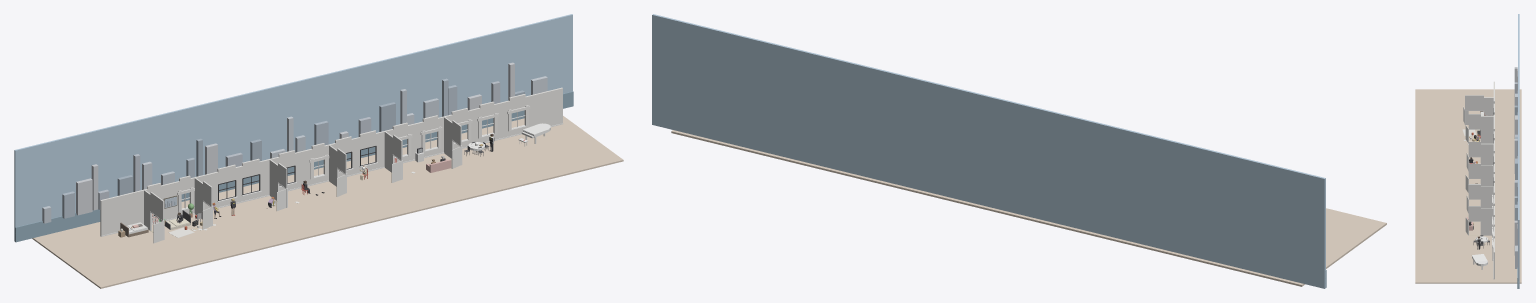
3 renders of one model, left to right at view 1: azimuth 30°, elevation 25°; view 2: azimuth 150°, elevation 25°; view 3: azimuth 270°, elevation 25°, orthographic. The views are drawn at different scales.
Visible parts, largest first — view 1: backdrop_sky, floor, backdrop_water, backwall_-20.0, backwall_end, backwall_2.2, city_2, backwall_-9.8, backwall_25.1, city_16, backwall_-13.2, backwall_-1.8 (+2 smaller); view 2: backdrop_sky, floor; view 3: floor, backdrop_sky, part1_rear, part5_rear, part2_rear, part3_rear, part4_rear, part0_head, part2_head, part3_head, part4_head, part1_head (+7 smaller).
Part boxes in pixels (<box>): backdrop_sky: <box>14,14,572,241</box>; floor: <box>32,116,623,288</box>; backdrop_water: <box>15,91,573,242</box>; backwall_-20.0: <box>100,189,147,236</box>; backwall_end: <box>524,87,562,128</box>; backwall_2.2: <box>294,148,312,188</box>; city_2: <box>76,178,92,215</box>; backwall_-9.8: <box>189,171,218,213</box>; backwall_25.1: <box>493,100,509,139</box>; city_16: <box>379,102,395,131</box>; backwall_-13.2: <box>161,181,179,219</box>; backwall_-1.8: <box>259,157,279,196</box>; backdrop_sky: <box>652,14,1325,288</box>; floor: <box>671,130,1386,286</box>; floor: <box>1415,89,1521,283</box>; backdrop_sky: <box>1518,14,1519,288</box>; part1_rear: <box>1481,116,1493,143</box>; part5_rear: <box>1481,208,1493,235</box>; part2_rear: <box>1481,143,1493,165</box>; part3_rear: <box>1481,165,1493,186</box>; part4_rear: <box>1481,186,1493,208</box>; part0_head: <box>1465,95,1483,110</box>; part2_head: <box>1468,141,1480,156</box>; part3_head: <box>1468,163,1480,178</box>; part4_head: <box>1468,184,1480,199</box>; part1_head: <box>1468,114,1480,128</box>.
Bounding box in the file's own units: 64 × 10.32 × 14.
